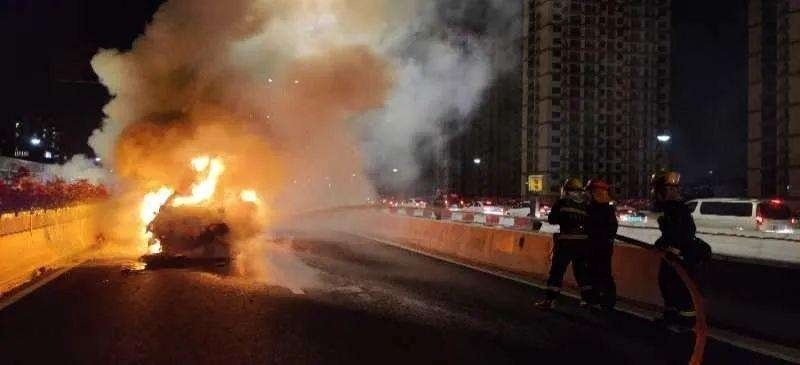fire: (131, 151, 264, 267)
